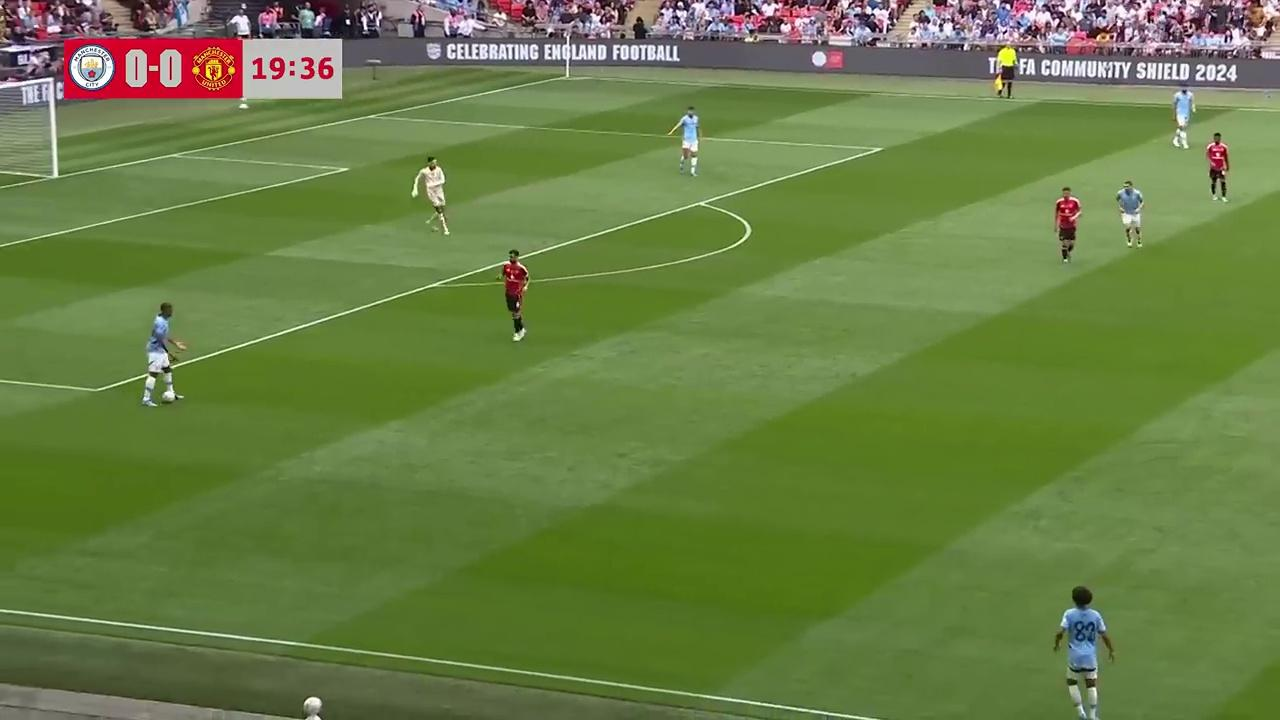ball: (162, 387, 173, 402)
player: (1052, 588, 1116, 720), (141, 300, 190, 407), (500, 249, 528, 342), (417, 157, 450, 234), (668, 105, 701, 176), (1054, 185, 1081, 264), (1116, 178, 1145, 249), (1205, 131, 1231, 202), (1171, 86, 1194, 149)
referee: (993, 44, 1017, 99)
